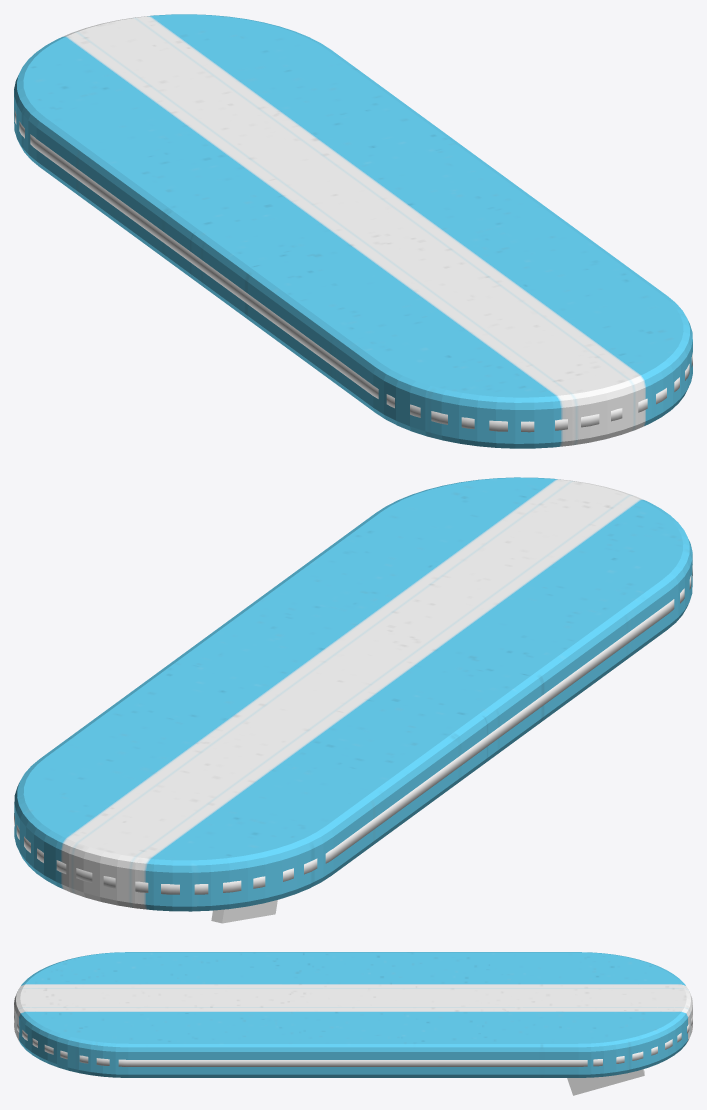
The model's file is hoverboard_classic.glb.
3 views of the same model, one above another, from view 1: azimuth 30°, elevation 25°; view 2: azimuth 150°, elevation 25°; view 3: azimuth 270°, elevation 25° (orthographic). The views are drawn at different scales.
Visible parts, largest first — view 1: Hoverboard_classic_BoardTop, Hoverboard_classic_BoardEdge; view 2: Hoverboard_classic_BoardTop, Hoverboard_classic_BoardEdge; view 3: Hoverboard_classic_BoardTop, Hoverboard_classic_BoardEdge.
Boxes of the visible parts, bbox=[...] form: Hoverboard_classic_BoardTop: bbox=[14, 14, 692, 448]; Hoverboard_classic_BoardEdge: bbox=[14, 110, 692, 432]; Hoverboard_classic_BoardTop: bbox=[14, 477, 692, 911]; Hoverboard_classic_BoardEdge: bbox=[14, 564, 692, 923]; Hoverboard_classic_BoardTop: bbox=[14, 952, 692, 1077]; Hoverboard_classic_BoardEdge: bbox=[14, 1013, 692, 1095].
Bounding box in the file's own units: 0.5519 × 0.1846 × 1.63.
4 materials, 1 textured.
